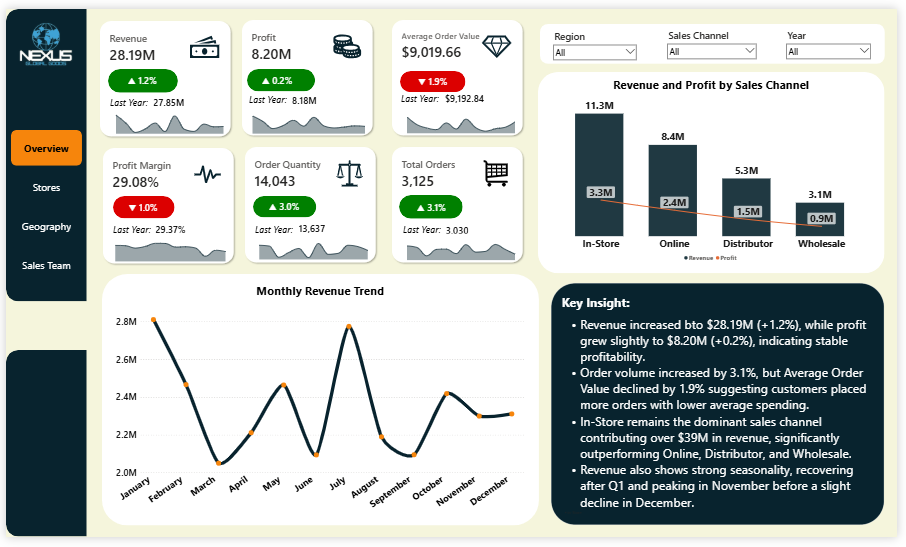

This screenshot's page, from the dashboard's own definition file:
{"tool":"powerbi","page":{"name":"Overview","canvas":[2700,1600],"ordinal":0},"visuals":[{"type":"shape","title":"Background","box":[244.8,0,2455.2,1600],"z":0},{"type":"shape","title":"Profit KPI Card","box":[707,25.6,414,368],"z":0,"group":"g14"},{"type":"shape","title":"Average Order Value KPI","box":[1159.4,25.6,414,368],"z":0,"group":"g17"},{"type":"shape","title":"Revenue KPI","box":[276.7,27.9,414,368],"z":0,"group":"g13"},{"type":"shape","title":"YoY Revenue Bg","box":[311.2,182.2,211.8,72.1],"z":0,"group":"g1"},{"type":"shape","title":"YoY Profit Bg","box":[732.7,183.3,206.6,68.4],"z":0,"group":"g2"},{"type":"shape","title":"YoY Average Order Value Bg","box":[1191.5,188.4,198.7,64.5],"z":0,"group":"g3"},{"type":"shape","box":[737,252.1,121.1,44.7],"z":0,"group":"g8"},{"type":"shape","box":[1197,252.5,118.4,34.2],"z":0,"group":"g7"},{"type":"shape","box":[317.6,253.3,124.1,59],"z":0,"group":"g9"},{"type":"shape","title":"Quantity KPI","box":[714,409.3,414,368],"z":0,"group":"g16"},{"type":"shape","title":"Order KPI","box":[1160,410,414,368],"z":0,"group":"g18"},{"type":"shape","title":"Profit Margin KPI","box":[283.7,411.6,414,368],"z":0,"group":"g15"},{"type":"shape","title":"YoY Quantity Bg","box":[748.3,565.2,192.1,65.3],"z":0,"group":"g4"},{"type":"shape","title":"YoY Profit Margin Bg","box":[322.8,565.3,186.8,68.4],"z":0,"group":"g6"},{"type":"shape","title":"YoY Order Bg","box":[1190,565.3,193.4,71.6],"z":0,"group":"g5"},{"type":"shape","box":[324.6,645.6,118.4,39.5],"z":0,"group":"g11"},{"type":"shape","box":[752.1,645.8,117.1,40.8],"z":0,"group":"g10"},{"type":"shape","box":[1201.4,648.6,125,39.3],"z":0,"group":"g12"},{"type":"shape","box":[0,13.7,92,40],"z":1000},{"type":"cardVisual","title":"Total Profit","fields":{"Data":["Metric Measures.Profit"]},"box":[721,41.6,382,148],"z":1000,"group":"g14"},{"type":"cardVisual","title":"Total Average Order Value","fields":{"Data":["Metric Measures.Average Order Value"]},"box":[1173.4,41.6,382,148],"z":1000,"group":"g17"},{"type":"cardVisual","title":"Total Revenue","fields":{"Data":["Metric Measures.Current Year Revenue"]},"box":[290.7,43.9,382,148],"z":1000,"group":"g13"},{"type":"cardVisual","title":"YoY Revenue","fields":{"Data":["YoY Measures.YoY Revenue"]},"box":[316.5,179.3,196.8,72.2],"z":1000,"group":"g1"},{"type":"cardVisual","title":"YoY Profit","fields":{"Data":["YoY Measures.YoY Profit"]},"box":[748.7,183.5,152.9,64.9],"z":1000,"group":"g2"},{"type":"cardVisual","title":"YoY Average Order Value","fields":{"Data":["YoY Measures.YoY Average Order Value"]},"box":[1216.5,188.4,150,61.8],"z":1000,"group":"g3"},{"type":"cardVisual","title":"Last Year Average Order Value","fields":{"Data":["Last Year Measures.Previous Year Average Order Value"]},"box":[1304.1,237.3,173.2,67.9],"z":1000,"group":"g7"},{"type":"cardVisual","title":"Last Year Profit","fields":{"Data":["Last Year Measures.Previous Year Profit"]},"box":[846.2,241.2,118.4,68.4],"z":1000,"group":"g8"},{"type":"cardVisual","title":"Last Year Revenue","fields":{"Data":["Last Year Measures.Previous Year Revenue"]},"box":[424.9,242.9,145.5,78.8],"z":1000,"group":"g9"},{"type":"cardVisual","title":"Total Quantity","fields":{"Data":["Metric Measures.Total Quantity"]},"box":[728,425.3,382,148],"z":1000,"group":"g16"},{"type":"cardVisual","title":"Total Order","fields":{"Data":["Metric Measures.Total Orders"]},"box":[1174,426,382,148],"z":1000,"group":"g18"},{"type":"cardVisual","title":"Profit Margin","fields":{"Data":["Metric Measures.Profit Margin"]},"box":[297.7,427.6,382,148],"z":1000,"group":"g15"},{"type":"cardVisual","title":"YoY Quantity","fields":{"Data":["YoY Measures.YoY Quantity"]},"box":[764.4,556.3,158.1,81.6],"z":1000,"group":"g4"},{"type":"cardVisual","title":"YoY Order","fields":{"Data":["YoY Measures.YoY Orders"]},"box":[1207,564.5,160.7,69],"z":1000,"group":"g5"},{"type":"cardVisual","title":"YoY Margin","fields":{"Data":["YoY Measures.YoY Profit Margin"]},"box":[342.8,567.6,140.8,61.8],"z":1000,"group":"g6"},{"type":"cardVisual","title":"Last Year Quantity","fields":{"Data":["Last Year Measures.Previous Year Order Quantity"]},"box":[864.4,631.5,121.4,67.9],"z":1000,"group":"g10"},{"type":"cardVisual","title":"Last Year Profit Margin","fields":{"Data":["Last Year Measures.Previous Year Profit Margin"]},"box":[434.3,631.9,131.6,67.1],"z":1000,"group":"g11"},{"type":"cardVisual","title":"Last Year Order","fields":{"Data":["Last Year Measures.Previous Year Order Volume"]},"box":[1307.9,635.9,116.1,62.5],"z":1000,"group":"g12"},{"type":"shape","title":"Side Bar","box":[0,0,244.8,886.2],"z":2000},{"type":"group","id":"g1","title":"YoY Revenue","box":[311.2,179.3,211.8,75],"z":2000,"group":"g13"},{"type":"group","id":"g2","title":"YoY Profit","box":[732.7,183.3,206.6,68.4],"z":2000,"group":"g14"},{"type":"group","id":"g3","title":"YoYAverage Order Value","box":[1191.5,188.4,200,63.3],"z":2000,"group":"g17"},{"type":"group","id":"g4","title":"YoY Quantity","box":[748.3,556.3,192.1,81.6],"z":2000,"group":"g16"},{"type":"group","id":"g5","title":"YoY Order","box":[1190,564.5,193.3,73.3],"z":2000,"group":"g18"},{"type":"group","id":"g6","title":"YoY Profit Margin","box":[322.8,565.3,186.8,68.4],"z":2000,"group":"g15"},{"type":"image","title":"Company Logo","box":[0,0,242.5,240],"z":3000},{"type":"group","id":"g7","title":"Last Year Revenue","box":[1197,237.3,280.4,67.9],"z":3000,"group":"g17"},{"type":"group","id":"g8","title":"Last Year Profit","box":[737,241.2,227.7,68.4],"z":3000,"group":"g14"},{"type":"group","id":"g9","title":"Last Year Revenue","box":[317.6,242.9,252.7,78.8],"z":3000,"group":"g13"},{"type":"group","id":"g10","title":"Last Year Quantity","box":[752.1,631.5,233.8,67.9],"z":3000,"group":"g16"},{"type":"group","id":"g11","title":"Last Year Profit Margin","box":[324.6,631.9,241.3,67.1],"z":3000,"group":"g15"},{"type":"group","id":"g12","title":"Last Year Order","box":[1201.4,635.9,222.6,62.5],"z":3000,"group":"g18"},{"type":"lineChart","fields":{"Category":["Dim Date.Month Number"],"Y":["Metric Measures.Average Order Value"]},"box":[1173.4,300.6,381.6,81.6],"z":4000,"group":"g17"},{"type":"lineChart","fields":{"Category":["Dim Date.Month Number"],"Y":["Metric Measures.Revenue"]},"box":[294.2,301.5,380,83.3],"z":4000,"group":"g13"},{"type":"lineChart","fields":{"Category":["Dim Date.Month Number"],"Y":["Metric Measures.Profit"]},"box":[707.1,307,396.7,76.7],"z":4000,"group":"g14"},{"type":"pageNavigator","box":[15,367.5,215,462.5],"z":4000},{"type":"lineChart","fields":{"Category":["Dim Date.Month Number"],"Y":["Metric Measures.Profit Margin"]},"box":[290.6,689.7,389.5,78.9],"z":4000,"group":"g15"},{"type":"lineChart","fields":{"Category":["Dim Date.Month Number"],"Y":["Metric Measures.Total Orders"]},"box":[1174.5,691.6,381.6,75],"z":4000,"group":"g18"},{"type":"lineChart","fields":{"Category":["Dim Date.Month Number"],"Y":["Metric Measures.Total Quantity"]},"box":[725.9,701,384.2,64.5],"z":4000,"group":"g16"},{"type":"group","id":"g13","title":"Revenue KPI","box":[276.7,27.9,414,368],"z":5000},{"type":"group","id":"g14","title":"Profit KPI","box":[707,25.6,414,368],"z":6000},{"type":"group","id":"g15","title":"Profit Margin KPI","box":[283.7,411.6,414,368],"z":7000},{"type":"group","id":"g16","title":"Quantity KPI","box":[714,409.3,414,368],"z":8000},{"type":"group","id":"g17","title":"Average Order Value KPI","box":[1159.4,25.6,414,368],"z":9000},{"type":"group","id":"g18","title":"Order KPI","box":[1160,410,414,368],"z":10000},{"type":"shape","title":"Middle Card","box":[1613.3,190,1050,610],"z":11000},{"type":"shape","title":"Bottom Card","box":[289.7,803.4,1324.1,762.1],"z":12000},{"type":"lineClusteredColumnComboChart","fields":{"Category":["Dim Sales Order.Sales Channel"],"Y2":["Metric Measures.Profit"],"Y":["Metric Measures.Revenue"]},"box":[1630,206.7,1013.3,570],"z":13000},{"type":"lineChart","title":"Monthly Revenue Trend","fields":{"Category":["Dim Date.Month"],"Y":["Metric Measures.Revenue"]},"box":[326.7,830,1250,706.7],"z":14000},{"type":"shape","title":"Top Card","box":[1617.2,44.8,1044.8,120.7],"z":15000},{"type":"slicer","title":"Year Slicer","fields":{"Values":["Dim Sales Order.Sales Channel"]},"box":[1993.1,55.2,289.7,103.4],"z":16000},{"type":"slicer","title":"Year Slicer","fields":{"Values":["Dim Date.Year"]},"box":[2355.2,55.2,275.9,103.4],"z":17000},{"type":"slicer","title":"Year Slicer","fields":{"Values":["Dim Region.Region"]},"box":[1648.3,58.6,272.4,100],"z":18000},{"type":"shape","title":"Middle Card","box":[1650,830,1010,733.3],"z":19000},{"type":"textbox","box":[1680,856.7,956.7,706.7],"z":20000},{"type":"shape","title":"Side Bar","box":[0,1034.5,244.8,565.5],"z":21000}]}

Visuals, with their boxes in screenshot pixels (x1, y1, x2, y2), scaled from the page's 2700x1600 canvas onto the 906x547 screenshot:
"Background" shape: left=82, top=0, right=905, bottom=546
"Profit KPI Card" shape: left=237, top=9, right=376, bottom=135
"Average Order Value KPI" shape: left=389, top=9, right=528, bottom=135
"Revenue KPI" shape: left=93, top=10, right=232, bottom=135
"YoY Revenue Bg" shape: left=104, top=62, right=175, bottom=87
"YoY Profit Bg" shape: left=246, top=63, right=315, bottom=86
"YoY Average Order Value Bg" shape: left=400, top=64, right=466, bottom=86
shape: left=247, top=86, right=288, bottom=101
shape: left=402, top=86, right=441, bottom=98
shape: left=107, top=87, right=148, bottom=107
"Quantity KPI" shape: left=240, top=140, right=379, bottom=266
"Order KPI" shape: left=389, top=140, right=528, bottom=266
"Profit Margin KPI" shape: left=95, top=141, right=234, bottom=267
"YoY Quantity Bg" shape: left=251, top=193, right=316, bottom=216
"YoY Profit Margin Bg" shape: left=108, top=193, right=171, bottom=217
"YoY Order Bg" shape: left=399, top=193, right=464, bottom=218
shape: left=109, top=221, right=149, bottom=234
shape: left=252, top=221, right=292, bottom=235
shape: left=403, top=222, right=445, bottom=235
shape: left=0, top=5, right=31, bottom=18
"Total Profit" cardVisual: left=242, top=14, right=370, bottom=65
"Total Average Order Value" cardVisual: left=394, top=14, right=522, bottom=65
"Total Revenue" cardVisual: left=98, top=15, right=226, bottom=66
"YoY Revenue" cardVisual: left=106, top=61, right=172, bottom=86
"YoY Profit" cardVisual: left=251, top=63, right=303, bottom=85
"YoY Average Order Value" cardVisual: left=408, top=64, right=459, bottom=86
"Last Year Average Order Value" cardVisual: left=438, top=81, right=496, bottom=104
"Last Year Profit" cardVisual: left=284, top=82, right=324, bottom=106
"Last Year Revenue" cardVisual: left=143, top=83, right=191, bottom=110
"Total Quantity" cardVisual: left=244, top=145, right=372, bottom=196
"Total Order" cardVisual: left=394, top=146, right=522, bottom=196
"Profit Margin" cardVisual: left=100, top=146, right=228, bottom=197
"YoY Quantity" cardVisual: left=256, top=190, right=310, bottom=218
"YoY Order" cardVisual: left=405, top=193, right=459, bottom=217
"YoY Margin" cardVisual: left=115, top=194, right=162, bottom=215
"Last Year Quantity" cardVisual: left=290, top=216, right=331, bottom=239
"Last Year Profit Margin" cardVisual: left=146, top=216, right=190, bottom=239
"Last Year Order" cardVisual: left=439, top=217, right=478, bottom=239
"Side Bar" shape: left=0, top=0, right=82, bottom=303
"YoY Revenue" group: left=104, top=61, right=175, bottom=87
"YoY Profit" group: left=246, top=63, right=315, bottom=86
"YoYAverage Order Value" group: left=400, top=64, right=467, bottom=86
"YoY Quantity" group: left=251, top=190, right=316, bottom=218
"YoY Order" group: left=399, top=193, right=464, bottom=218
"YoY Profit Margin" group: left=108, top=193, right=171, bottom=217
"Company Logo" image: left=0, top=0, right=81, bottom=82
"Last Year Revenue" group: left=402, top=81, right=496, bottom=104
"Last Year Profit" group: left=247, top=82, right=324, bottom=106
"Last Year Revenue" group: left=107, top=83, right=191, bottom=110
"Last Year Quantity" group: left=252, top=216, right=331, bottom=239
"Last Year Profit Margin" group: left=109, top=216, right=190, bottom=239
"Last Year Order" group: left=403, top=217, right=478, bottom=239
lineChart - Dim Date.Month Number x Metric Measures.Average Order Value: left=394, top=103, right=522, bottom=131
lineChart - Dim Date.Month Number x Metric Measures.Revenue: left=99, top=103, right=226, bottom=132
lineChart - Dim Date.Month Number x Metric Measures.Profit: left=237, top=105, right=370, bottom=131
pageNavigator: left=5, top=126, right=77, bottom=284
lineChart - Dim Date.Month Number x Metric Measures.Profit Margin: left=98, top=236, right=228, bottom=263
lineChart - Dim Date.Month Number x Metric Measures.Total Orders: left=394, top=236, right=522, bottom=262
lineChart - Dim Date.Month Number x Metric Measures.Total Quantity: left=244, top=240, right=373, bottom=262
"Revenue KPI" group: left=93, top=10, right=232, bottom=135
"Profit KPI" group: left=237, top=9, right=376, bottom=135
"Profit Margin KPI" group: left=95, top=141, right=234, bottom=267
"Quantity KPI" group: left=240, top=140, right=379, bottom=266
"Average Order Value KPI" group: left=389, top=9, right=528, bottom=135
"Order KPI" group: left=389, top=140, right=528, bottom=266
"Middle Card" shape: left=541, top=65, right=894, bottom=274
"Bottom Card" shape: left=97, top=275, right=542, bottom=535
lineClusteredColumnComboChart - Dim Sales Order.Sales Channel x Metric Measures.Profit: left=547, top=71, right=887, bottom=266
"Monthly Revenue Trend" lineChart: left=110, top=284, right=529, bottom=525
"Top Card" shape: left=543, top=15, right=893, bottom=57
"Year Slicer" slicer: left=669, top=19, right=766, bottom=54
"Year Slicer" slicer: left=790, top=19, right=883, bottom=54
"Year Slicer" slicer: left=553, top=20, right=645, bottom=54
"Middle Card" shape: left=554, top=284, right=893, bottom=534
textbox: left=564, top=293, right=885, bottom=534
"Side Bar" shape: left=0, top=354, right=82, bottom=546
